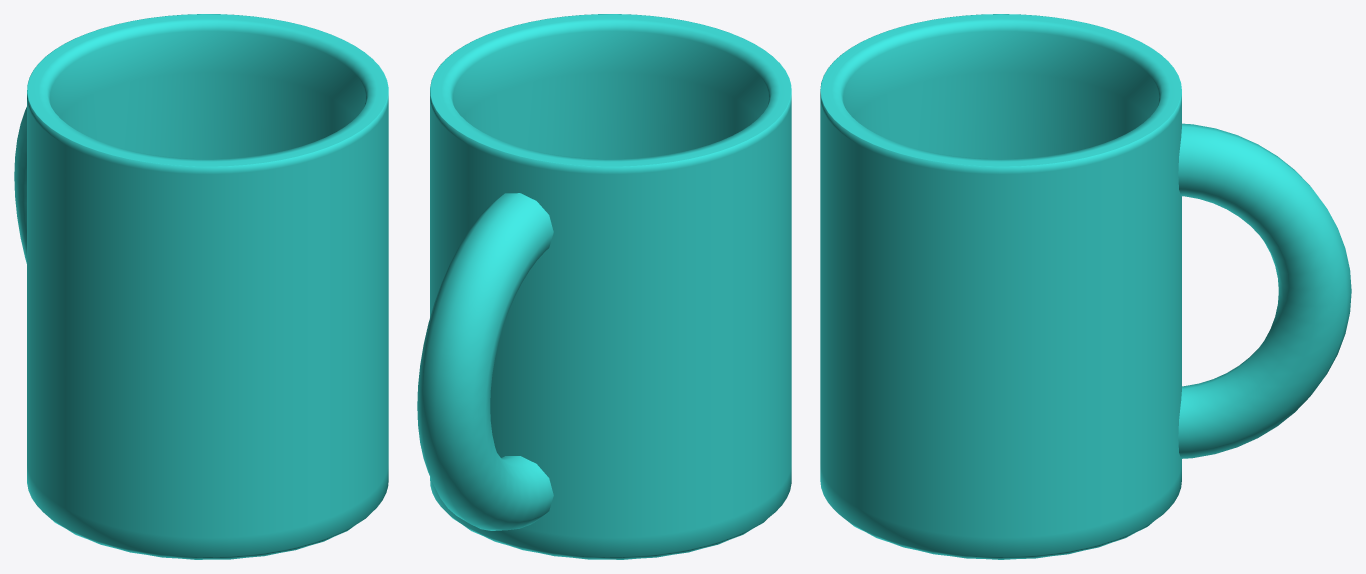
The model's file is Tasse.fbx.
The picture shows the model from 3 angles, left to right: view 1: azimuth 30°, elevation 25°; view 2: azimuth 150°, elevation 25°; view 3: azimuth 270°, elevation 25°; orthographic projection.
Parts seen in each view (by area): view 1: Cylinder.003, Torus.002; view 2: Cylinder.003, Torus.002; view 3: Cylinder.003, Torus.002.
Part boxes in pixels (left/top/right/bottom): Cylinder.003: left=27, top=14, right=388, bottom=559; Torus.002: left=14, top=107, right=26, bottom=263; Cylinder.003: left=430, top=14, right=791, bottom=559; Torus.002: left=417, top=193, right=553, bottom=530; Cylinder.003: left=820, top=14, right=1181, bottom=559; Torus.002: left=1178, top=123, right=1351, bottom=458.
Bounding box in the file's own units: 0.0745 × 0.09 × 0.1095.
